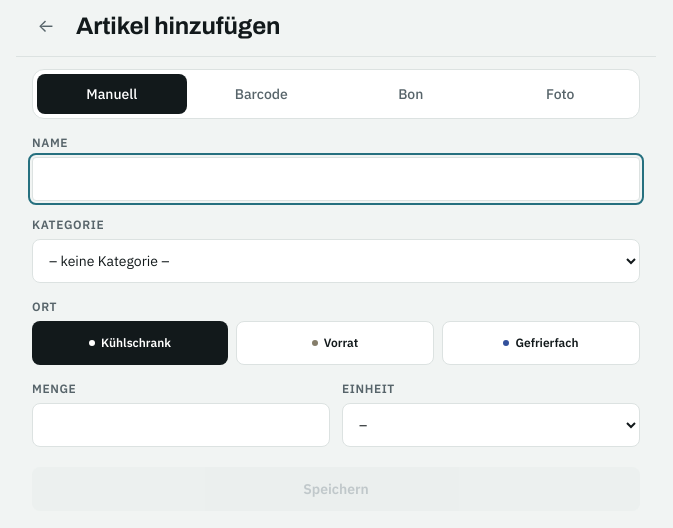
Test: AddItem — barcode scan › fills the manual form from a found product
Click the tab "Barcode" at x=261, y=94, box [186, 74, 336, 114]
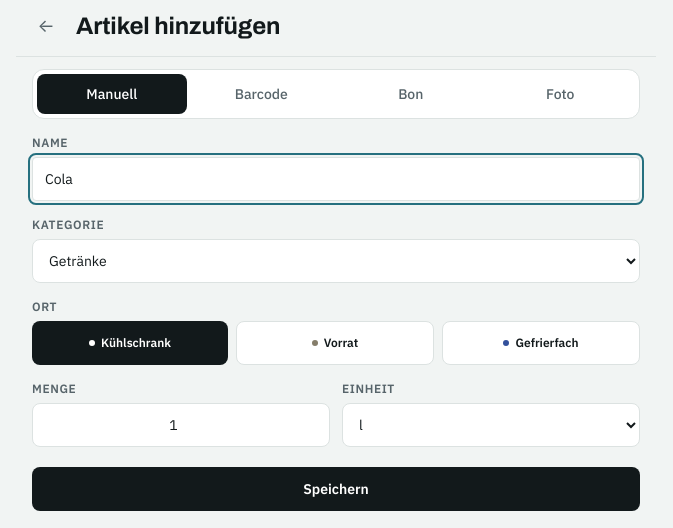
Expected: the field labelled "Name" holds "Cola", [32, 157, 640, 201]
Expected: the dropdown labelled "Kategorie" shows "Getränke", [32, 239, 640, 283]
Expected: the number field labelled "Menge" holds "1", [32, 403, 330, 447]
